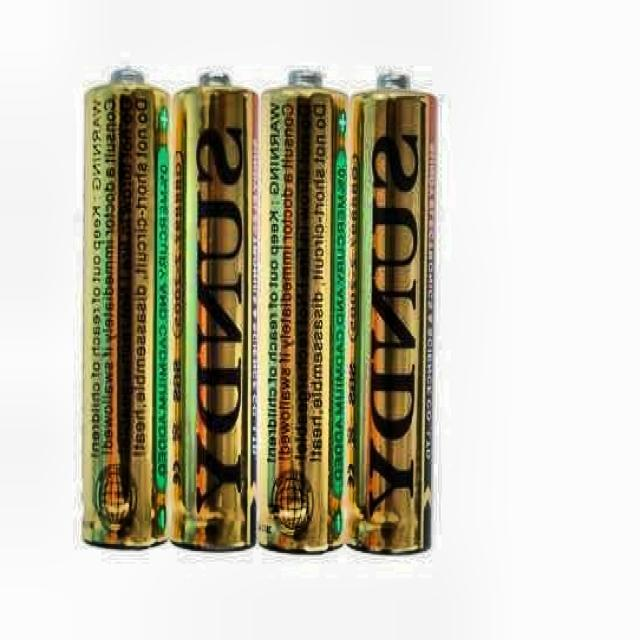Non-Valuable Waste - Batteries: (258, 71, 348, 552), (348, 73, 437, 552), (82, 69, 170, 548), (170, 73, 258, 550)
